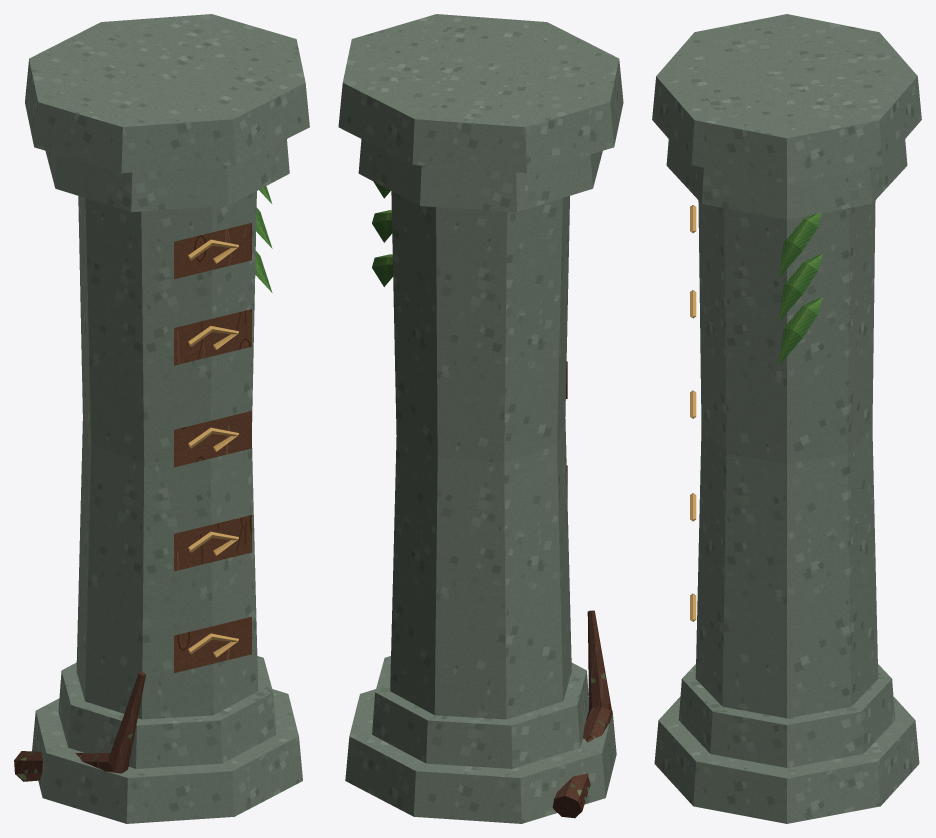
Rendered from ruin_pillar.glb.
3 views of the same model, side by side, from view 1: azimuth 30°, elevation 25°; view 2: azimuth 150°, elevation 25°; view 3: azimuth 270°, elevation 25° (orthographic).
Parts seen in each view (by area): view 1: StoneCourse; view 2: StoneCourse; view 3: StoneCourse.
Part boxes in pixels (bbox=[...]): StoneCourse: bbox=[14, 14, 309, 823]; StoneCourse: bbox=[338, 14, 623, 823]; StoneCourse: bbox=[652, 14, 921, 823].
Bounding box in the file's own units: 1.26 × 3.17 × 1.12.
5 materials, 4 textured.
